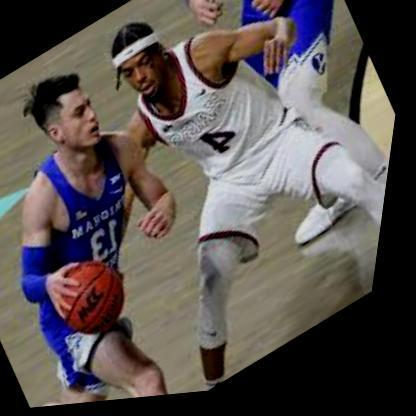basketball: (50, 247, 153, 354)
